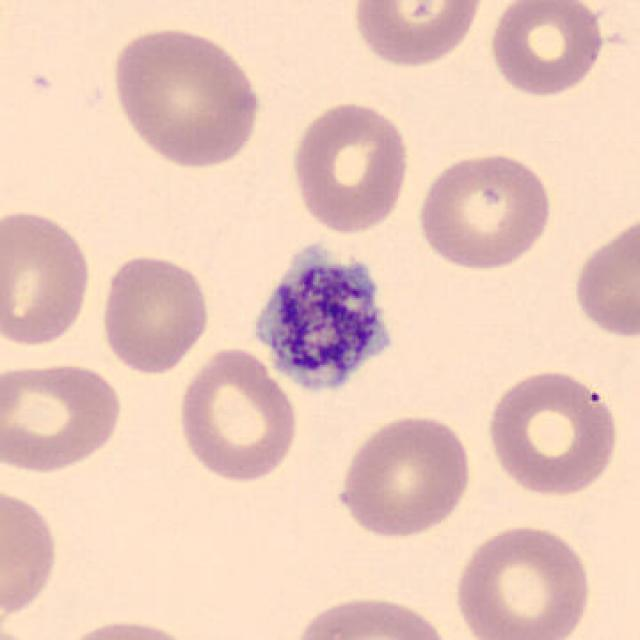Platelets: (240, 231, 407, 402)
RBC: (107, 21, 265, 173), (332, 409, 477, 541), (482, 365, 622, 499), (172, 342, 302, 485), (414, 148, 556, 273), (450, 520, 596, 640), (286, 97, 412, 236), (96, 250, 215, 378), (0, 358, 126, 478), (0, 204, 96, 351), (485, 0, 608, 99), (348, 0, 489, 69), (569, 210, 640, 342), (0, 482, 62, 622), (286, 590, 458, 640), (51, 613, 204, 640), (0, 619, 48, 640)
